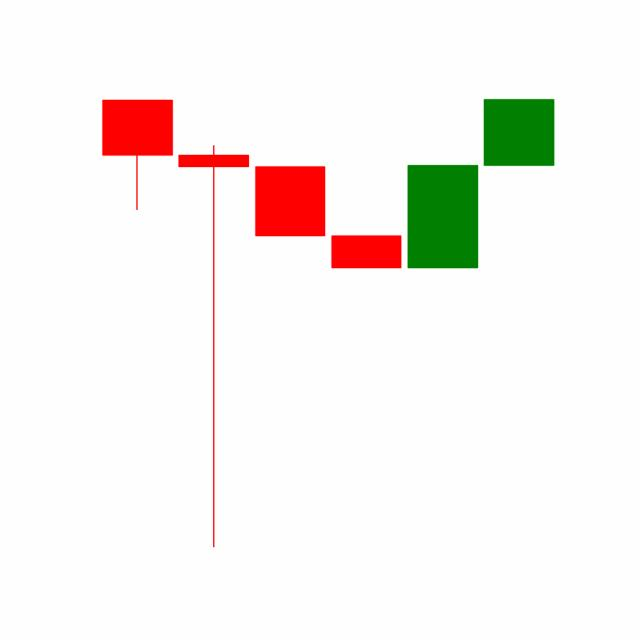Marubozu: (403, 163, 481, 268)
